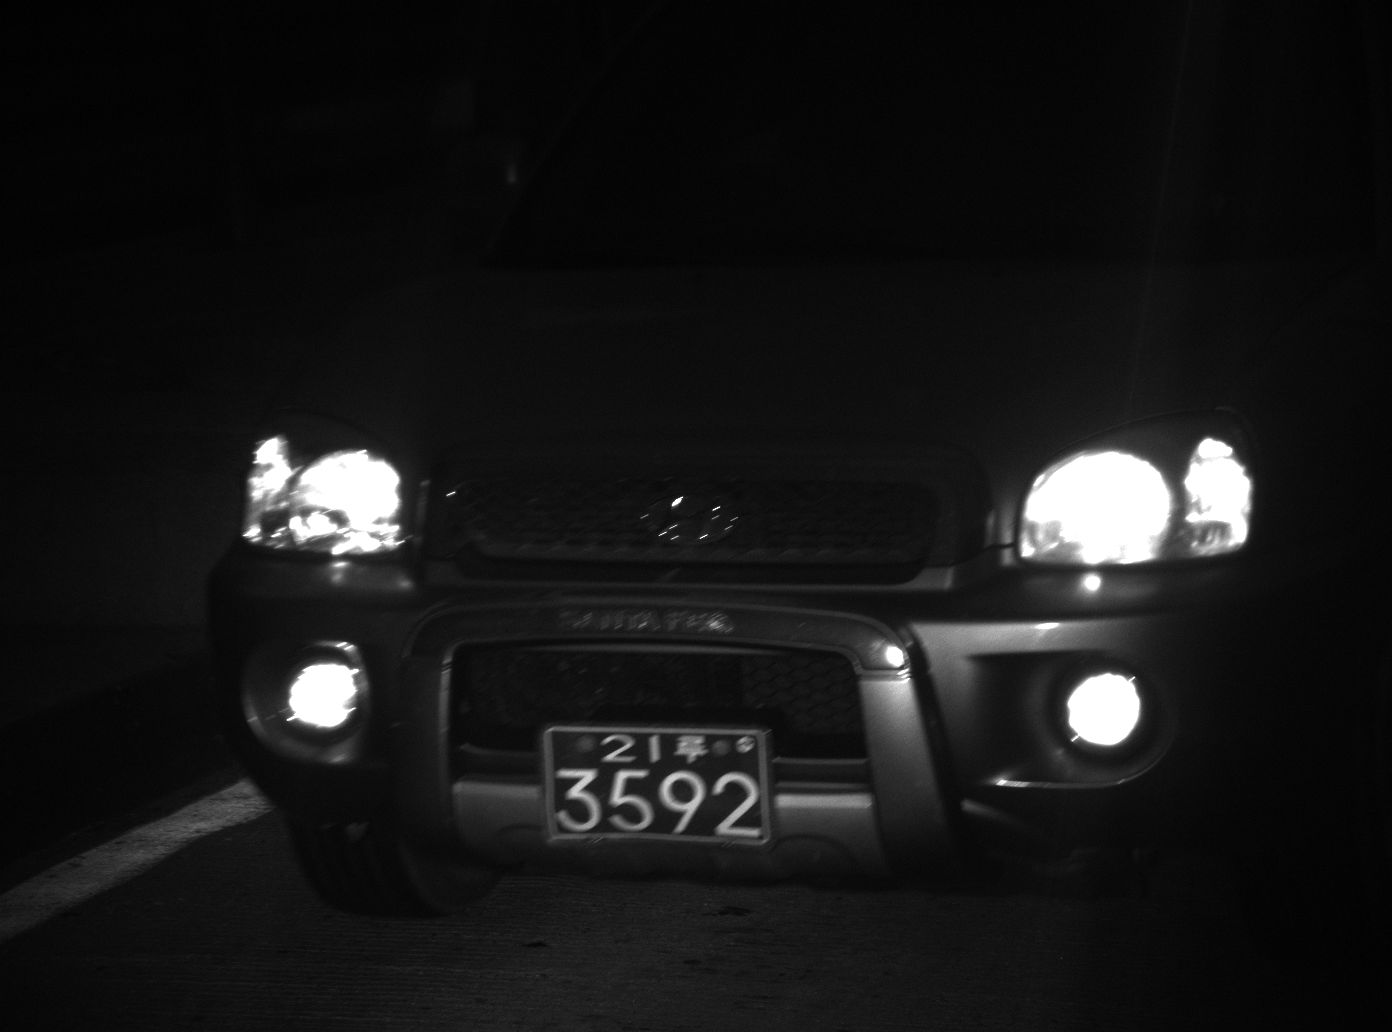car: (196, 1, 1392, 923)
plate: (541, 723, 770, 845)
